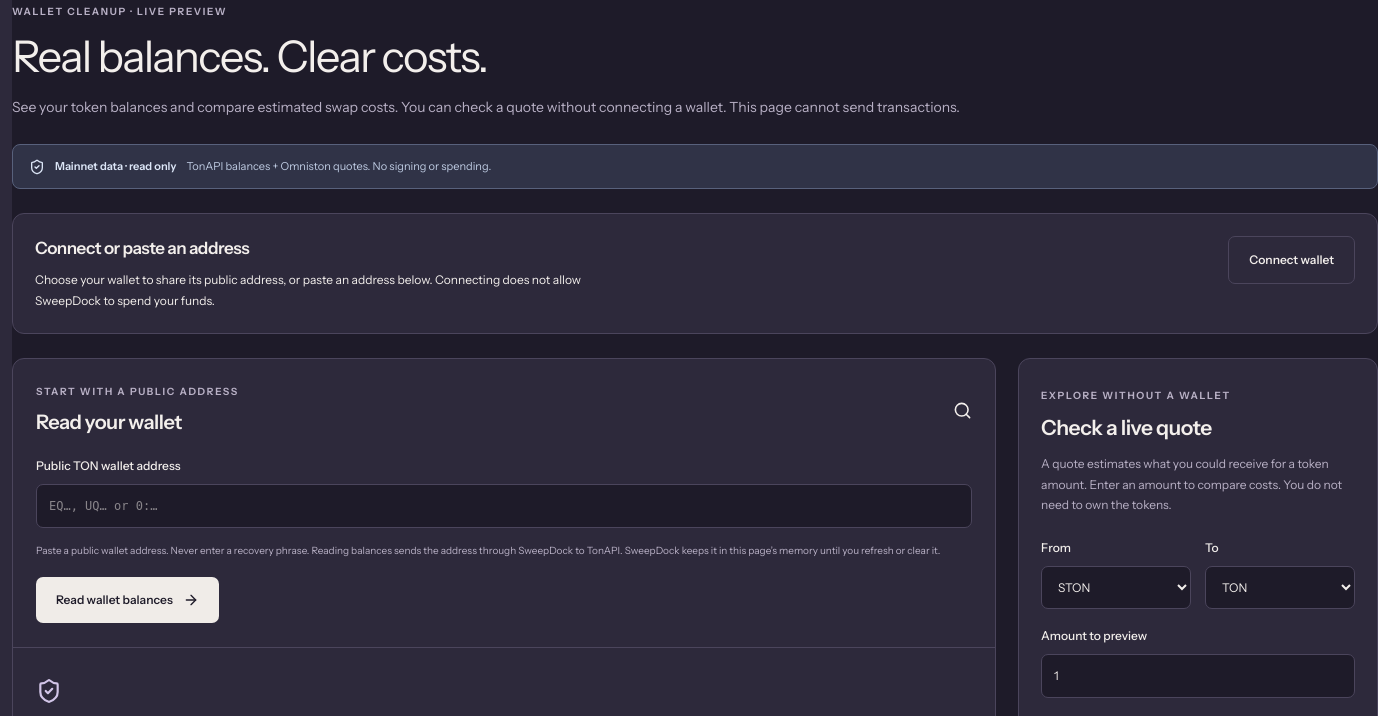
Test: loads the wallet adapter only after a user click and handles failure plainly
This screenshot has width=1378, height=716.
Click the button "Connect wallet" at point(1292, 260), box [1228,236,1355,284]
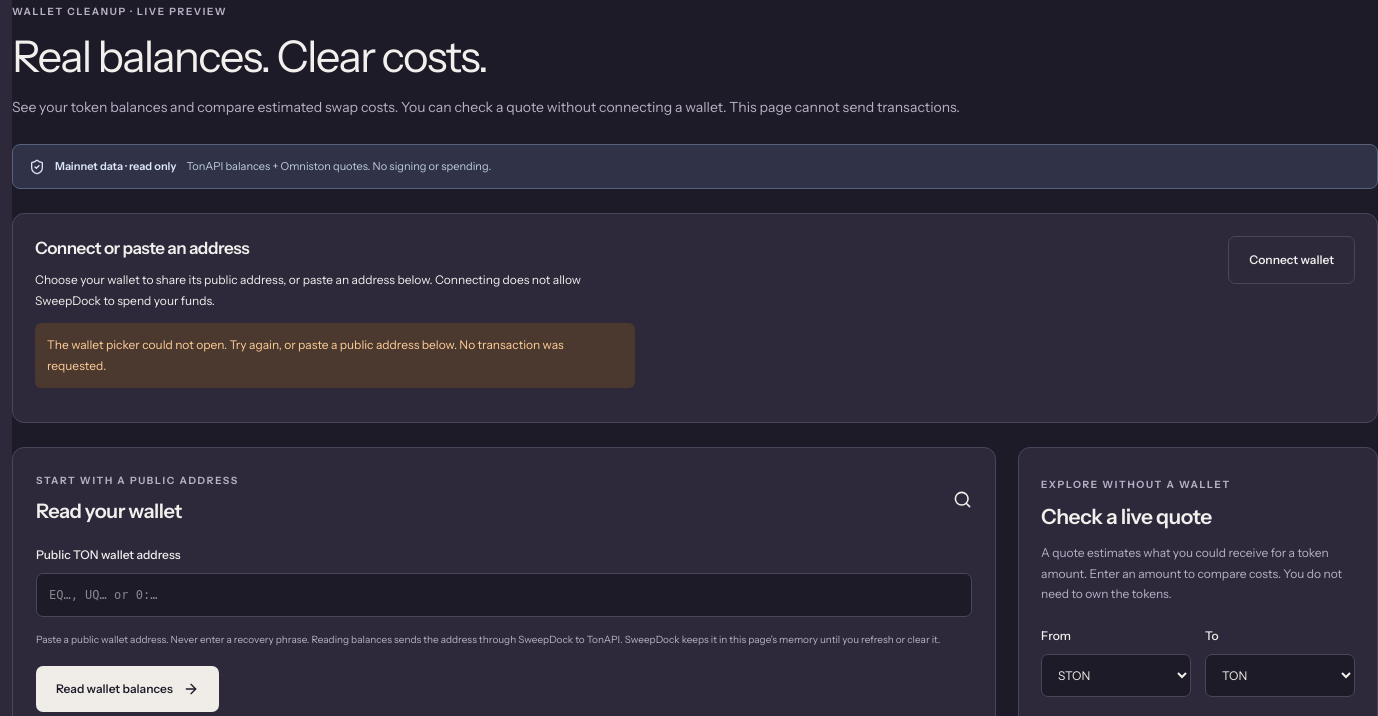
Check: the message shows "The wallet picker could not open", box [47,337,564,372]
